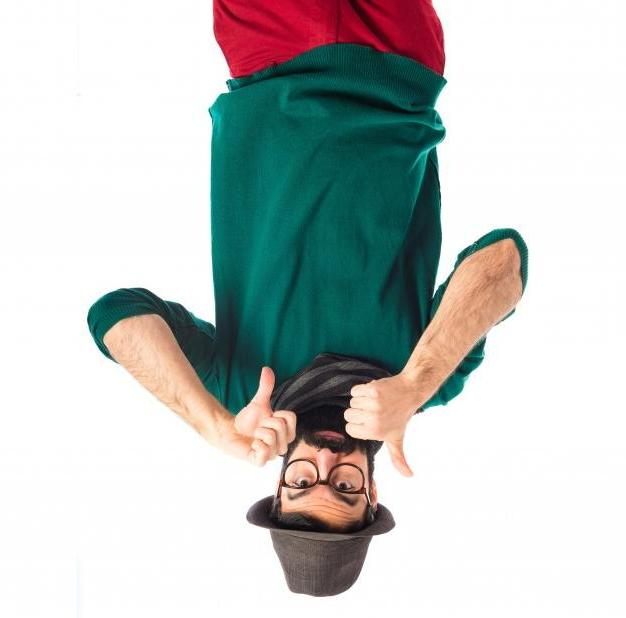thumbsdown: (344, 383, 413, 478)
